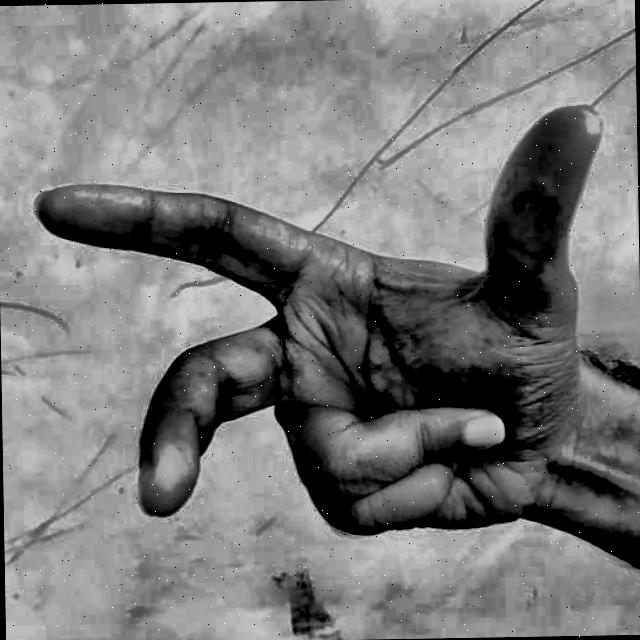Da: (14, 46, 634, 626)
